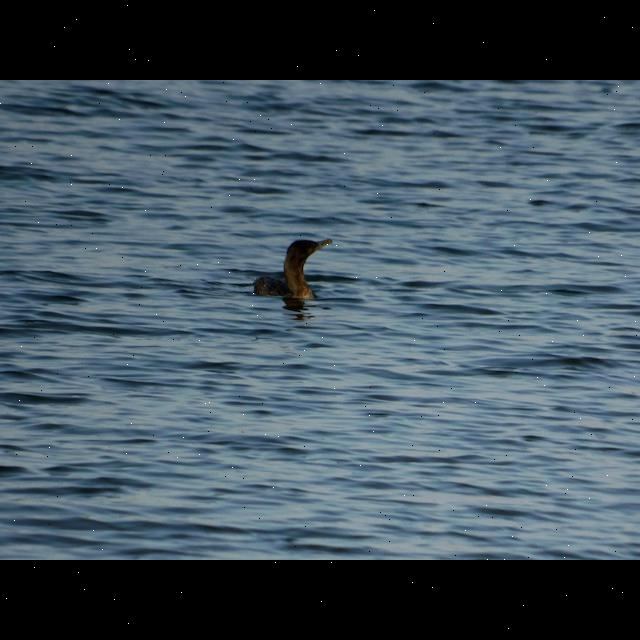cormorant: (252, 229, 336, 303)
